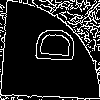D: (25, 24, 75, 65)
